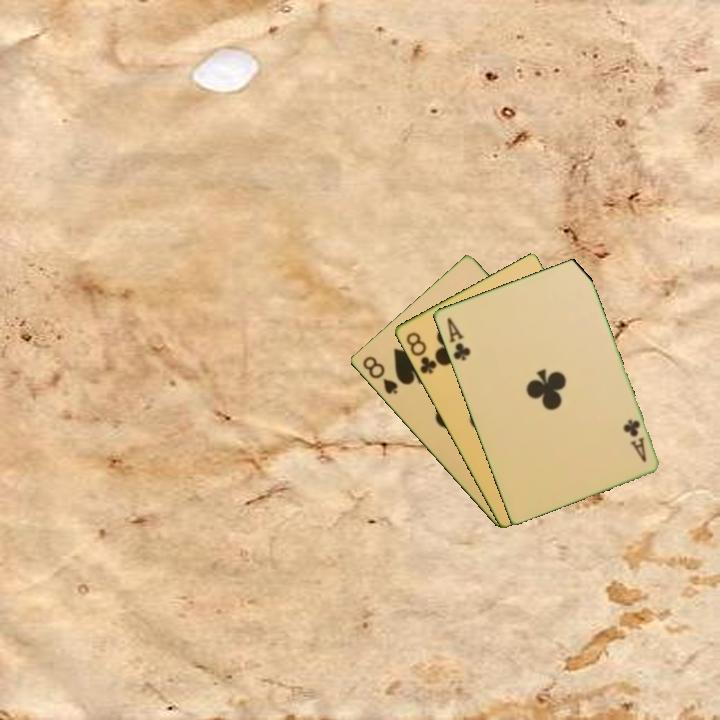8c: (402, 328, 439, 377)
8s: (358, 352, 400, 397)
Ac: (443, 314, 473, 364), (619, 416, 649, 465)
